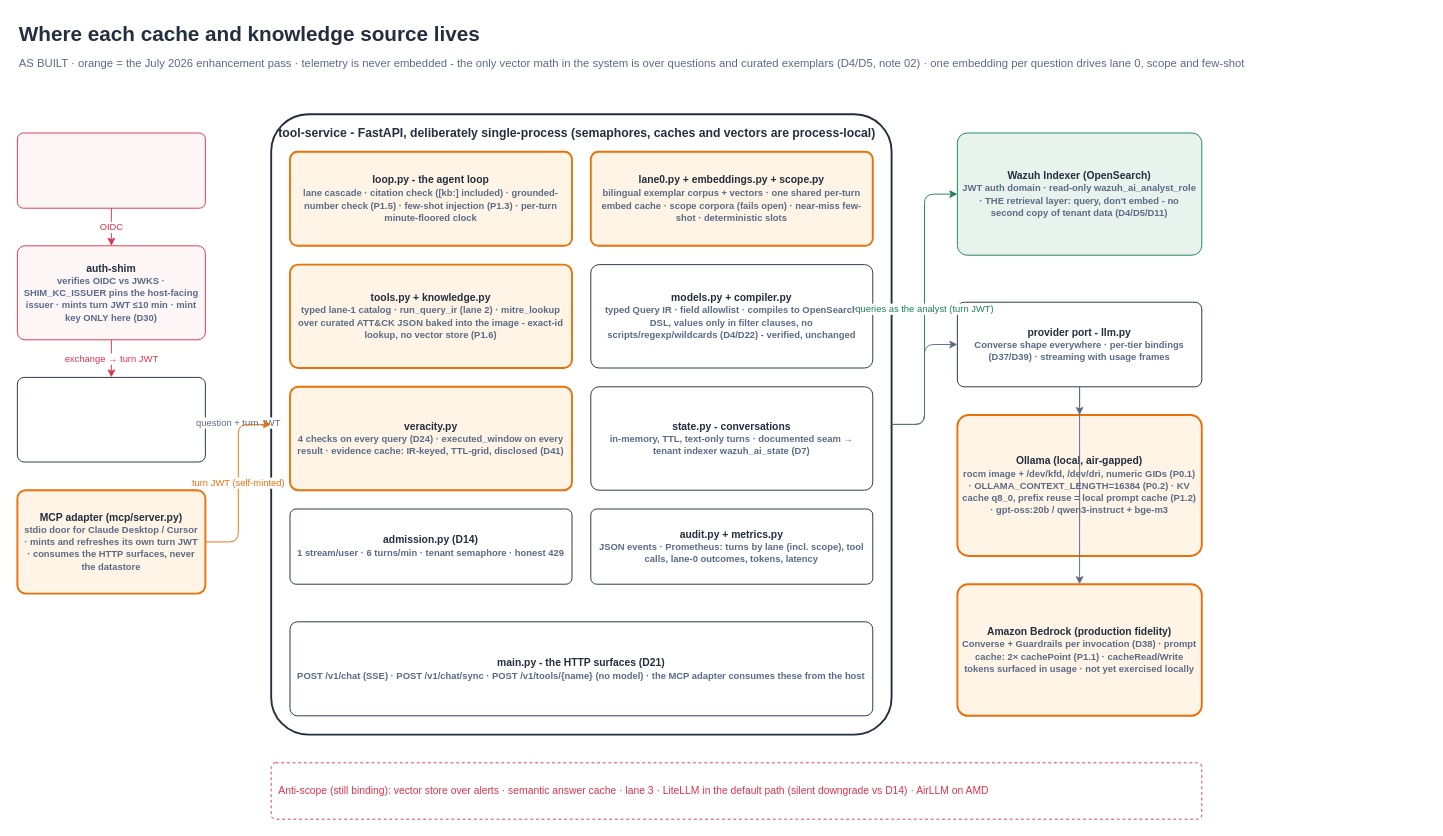
Image size: 1443x836. Some labels were removed from this diagram. Here are the shapes that lost their labels. From the top down, the centre of each, then its label:
(110,170): Keycloak customer IdP stand-in · OIDC
(110,419): n8n chat edge thin relay only (D28) · renders the verifiability label
